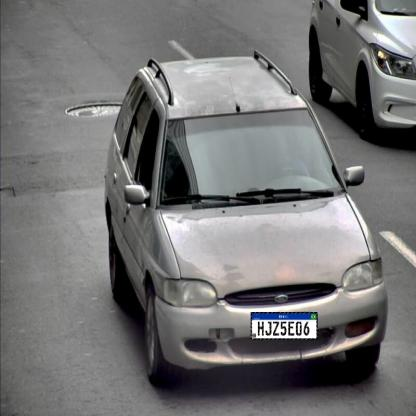PlacaM: (250, 312, 318, 340)
